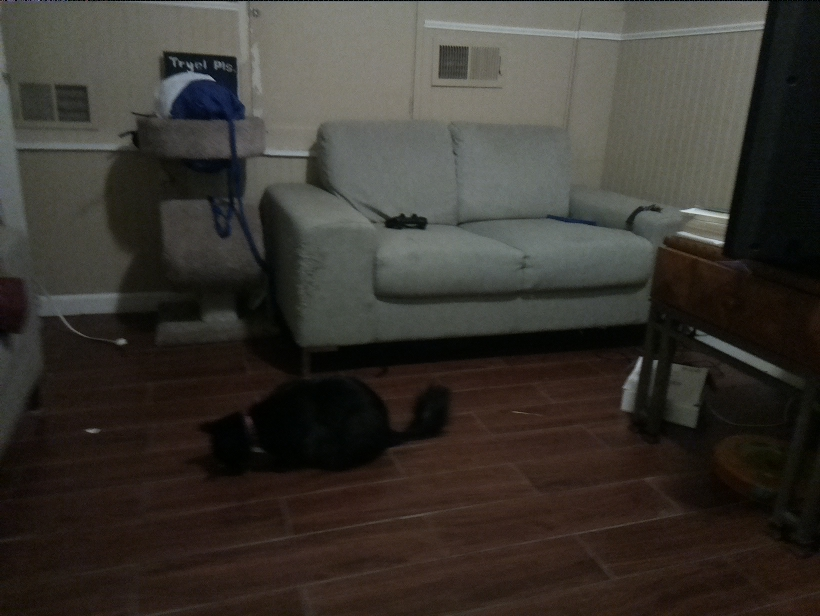cat: (192, 376, 457, 466)
